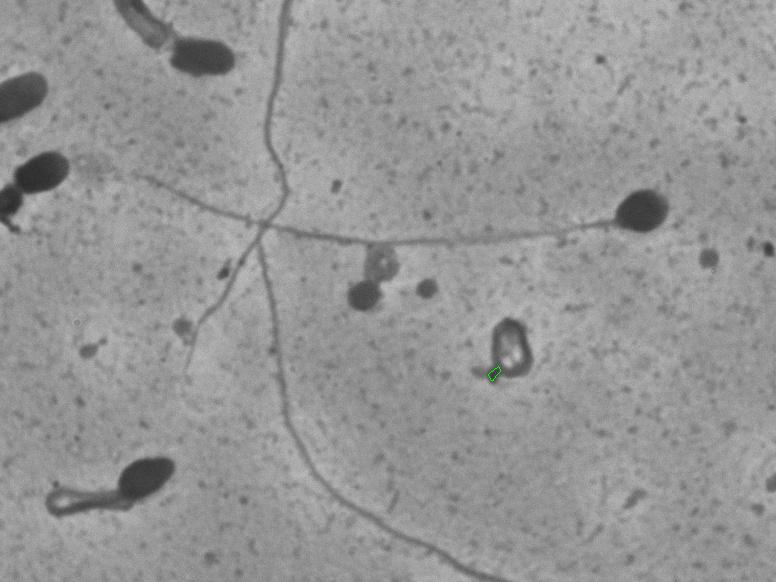Abnormal: (291, 131, 683, 297), (29, 424, 209, 555)
